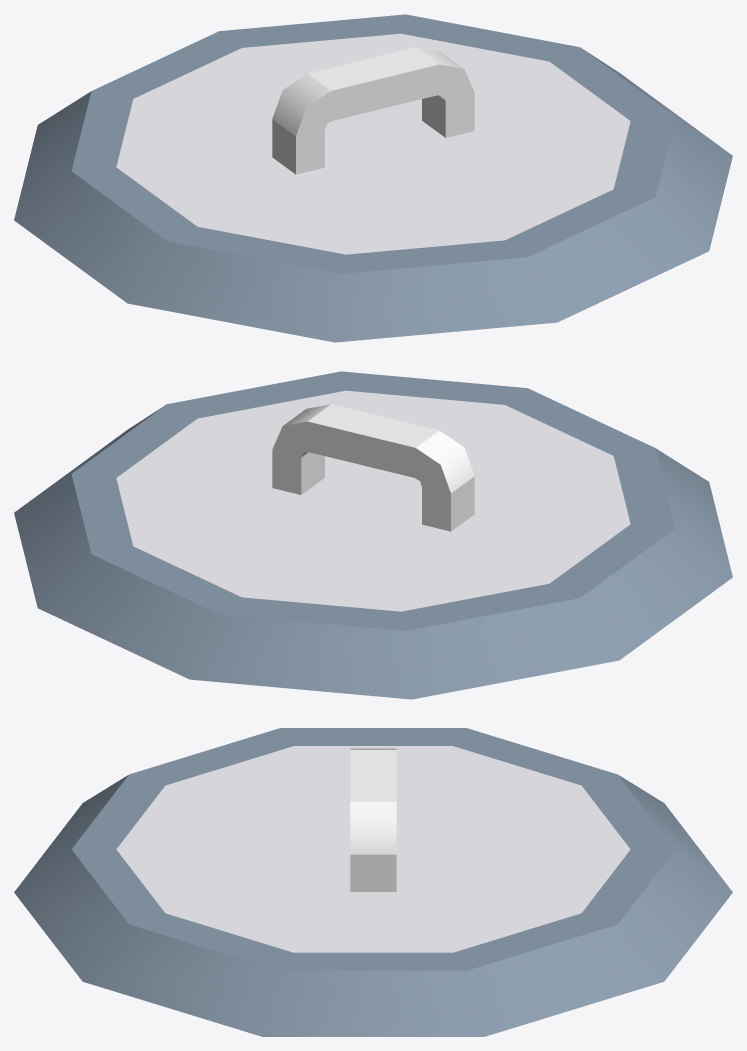
Rendered from fryingPanLid.obj.
3 renders of one model, top to bottom at view 1: azimuth 30°, elevation 25°; view 2: azimuth 150°, elevation 25°; view 3: azimuth 270°, elevation 25°, orthographic. The views are drawn at different scales.
Visible parts, largest first — view 1: fryingPanLid; view 2: fryingPanLid; view 3: fryingPanLid.
Part boxes in pixels (<box>): fryingPanLid: <box>14,14,732,342</box>; fryingPanLid: <box>14,371,732,699</box>; fryingPanLid: <box>14,728,732,1036</box>.
Size of the model in its own units: 0.5767 by 0.1084 by 0.6064.
